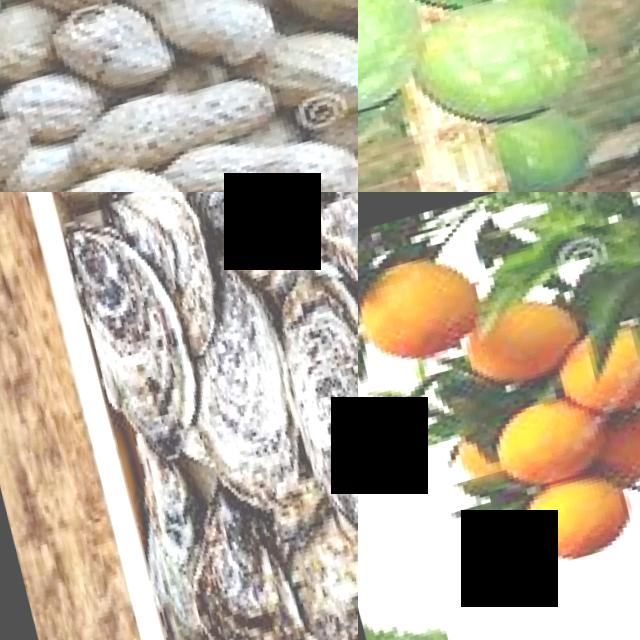orange: (358, 247, 484, 367), (513, 472, 639, 575), (460, 297, 575, 389), (491, 398, 592, 493)
oysters: (59, 205, 201, 450), (177, 286, 309, 510), (261, 267, 358, 536), (171, 493, 308, 640), (264, 494, 358, 640), (178, 192, 315, 269), (305, 192, 358, 343)
pawpaw: (419, 0, 594, 144), (358, 0, 424, 145), (381, 0, 542, 30)
peanuts: (63, 69, 277, 180), (65, 0, 175, 103), (141, 0, 279, 81), (166, 125, 329, 192), (0, 66, 100, 158)
